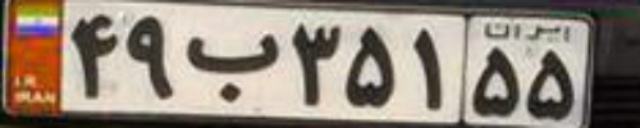1: (409, 26, 444, 109)
3: (286, 24, 339, 106)
4: (69, 13, 118, 99)
5: (342, 26, 398, 109), (524, 49, 575, 120), (472, 47, 518, 116)
9: (125, 15, 174, 98)
be: (185, 29, 280, 102)
